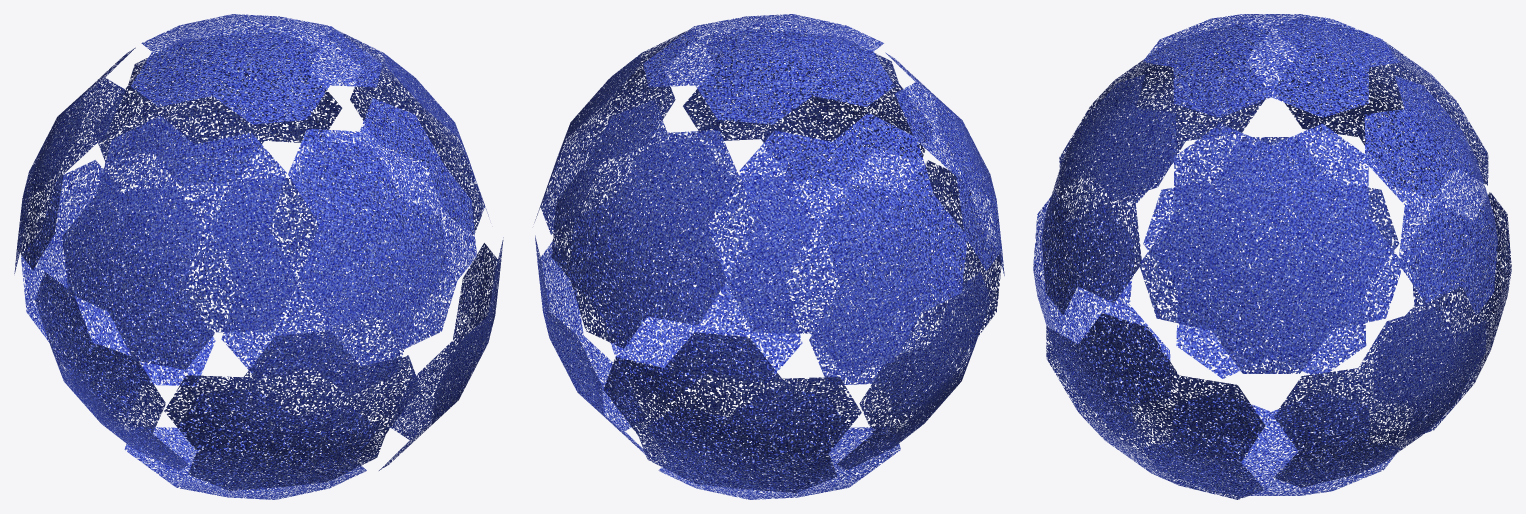
The model's file is SHIELD.FBX.
3 renders of one model, left to right at view 1: azimuth 30°, elevation 25°; view 2: azimuth 150°, elevation 25°; view 3: azimuth 270°, elevation 25°, orthographic.
Visible parts, largest first — view 1: headusOBJexport; view 2: headusOBJexport; view 3: headusOBJexport.
Part boxes in pixels (<box>): headusOBJexport: <box>14,14,503,499</box>; headusOBJexport: <box>534,14,1004,499</box>; headusOBJexport: <box>1033,14,1511,499</box>.
Bounding box in the file's own units: 116 × 114 × 114.
1 material, 1 textured.
